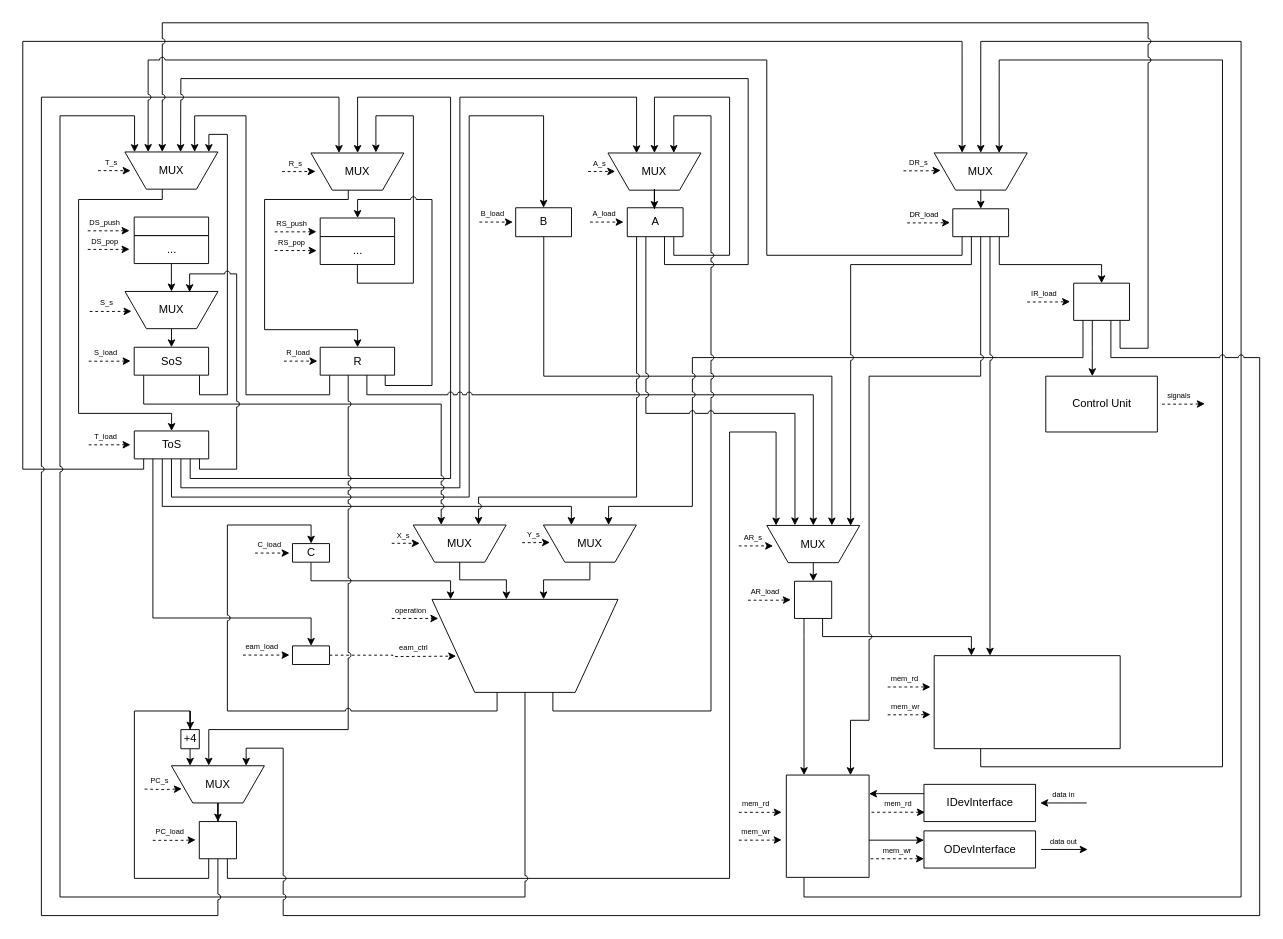
Some shapes in this 1283 by 939 pixel diagram are drawn without their labels. The shapes that lost their labels are listed below. From the top down, each one's centre as x and y in pixels, then its label:
At point (171, 226): "Data Stack".
At point (357, 227): "Return Stack".
At point (980, 222): "DR".
At point (1101, 301): "IR".
At point (813, 599): "AR".
At point (310, 654): "EAM".
At point (524, 645): "ALU".
At point (1026, 702): "Memory".
At point (217, 840): "PC".
At point (827, 825): "MMIO Control".
